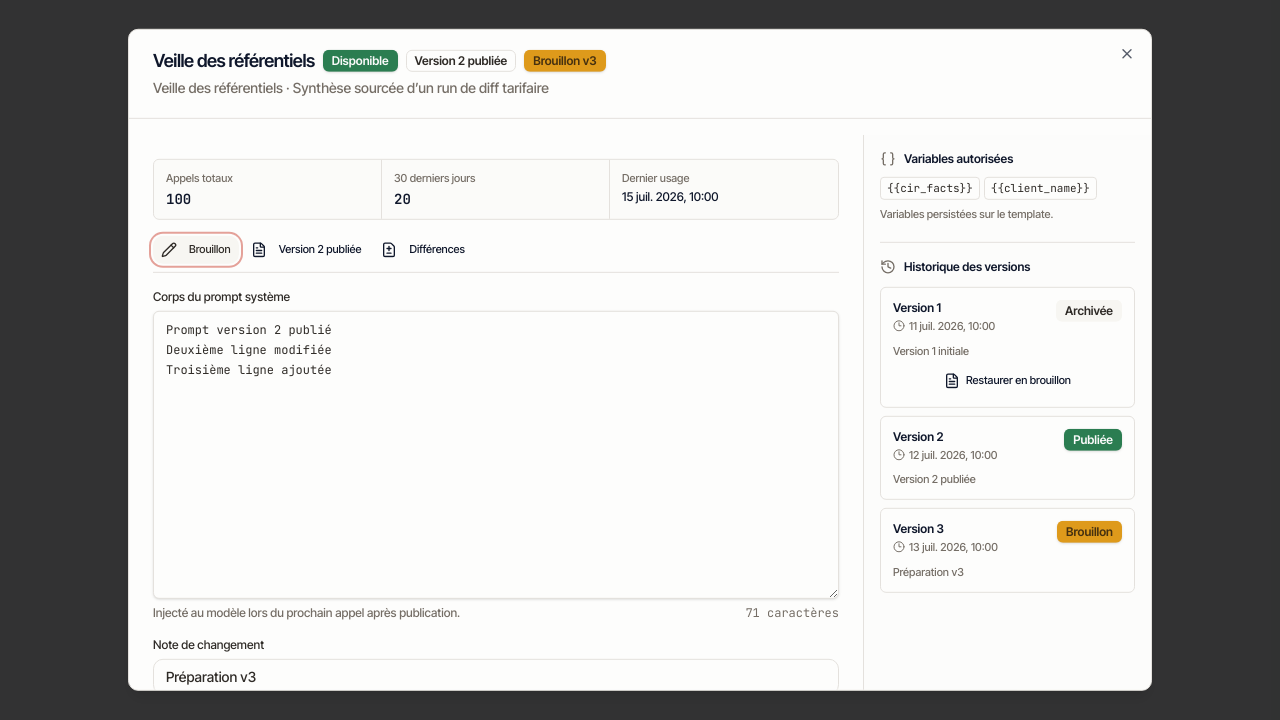
AiPromptEditorDialog › bascule vers la vue de la version publiée et vers le diff
The image size is (1280, 720).
Note: Clic sur l'onglet Version publiée
Click the button "Version 2 publiée" at [306, 249], box top-left (243, 235), bottom-right (369, 263)
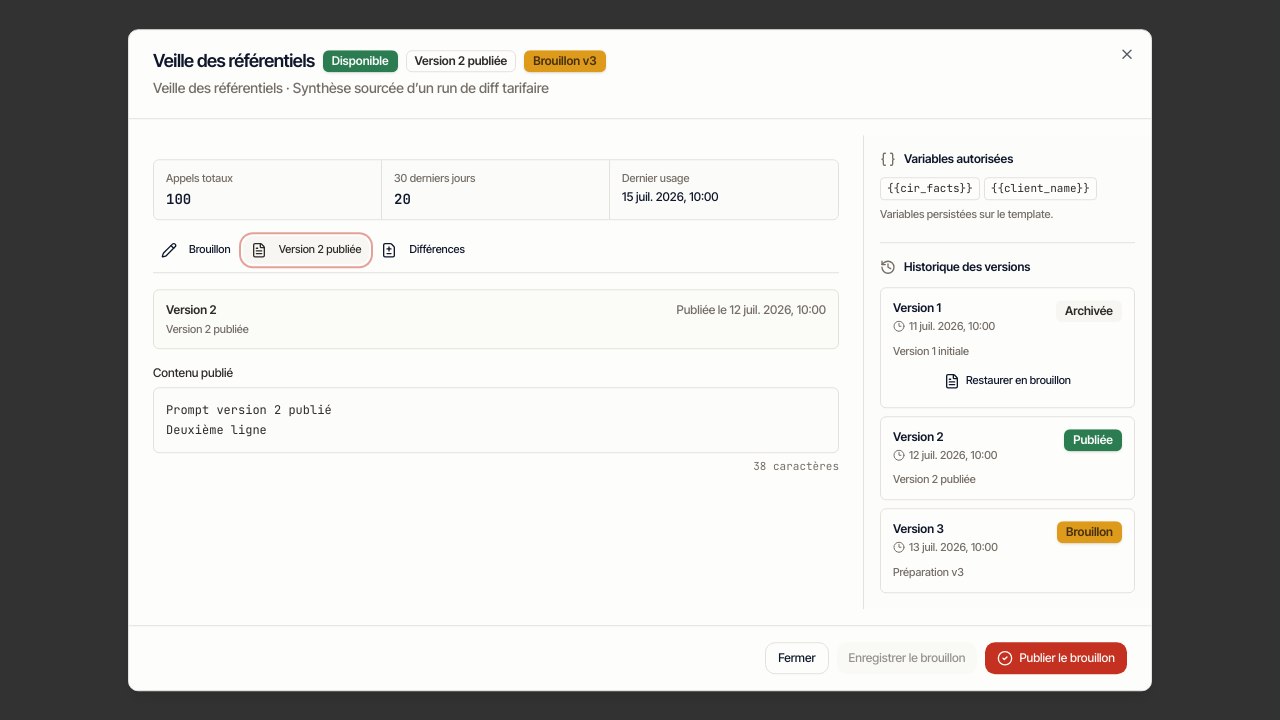
Expected: the element with test id "published-version-view" is shown, top-left (153, 289), bottom-right (839, 474)
Expected: the text "Publiée le 12 juil. 2026, 10:00" is shown, top-left (676, 302), bottom-right (826, 318)
Note: Clic sur l'onglet Différences
Click the button "Différences" at [423, 250], box top-left (373, 236), bottom-right (473, 264)
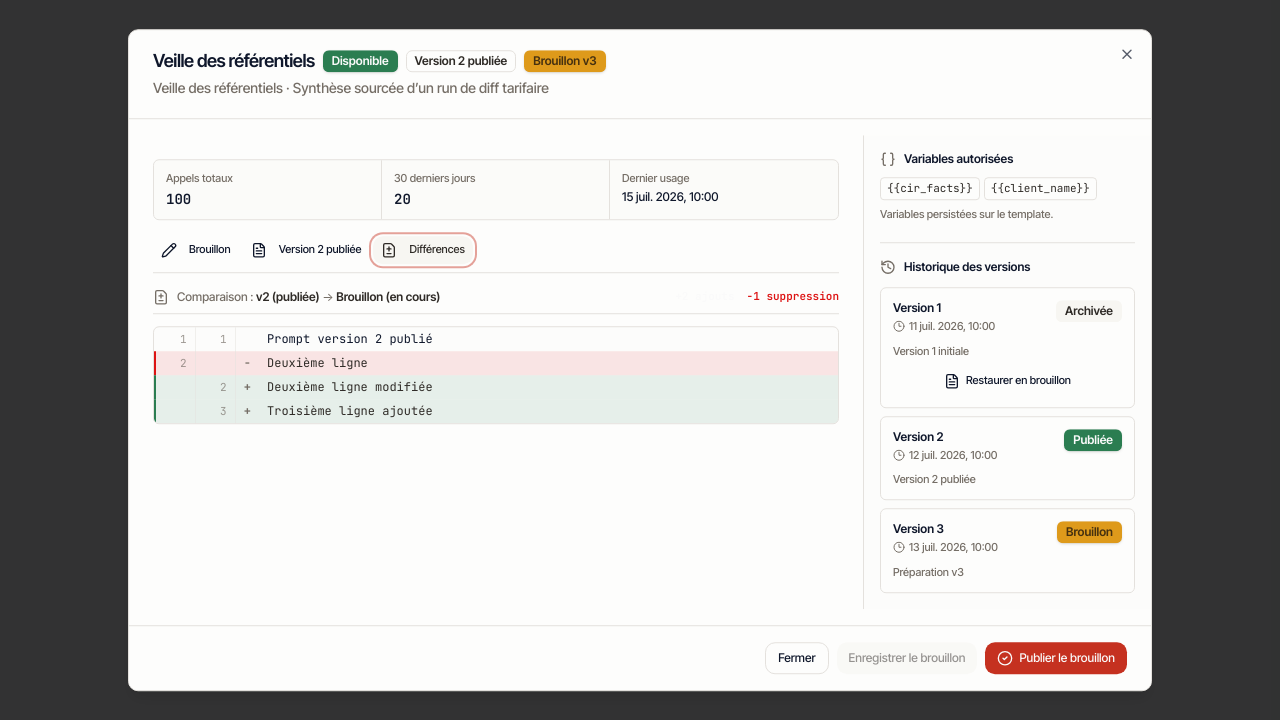
Expected: the element with test id "ai-prompt-diff-viewer" is shown, top-left (153, 289), bottom-right (839, 424)
